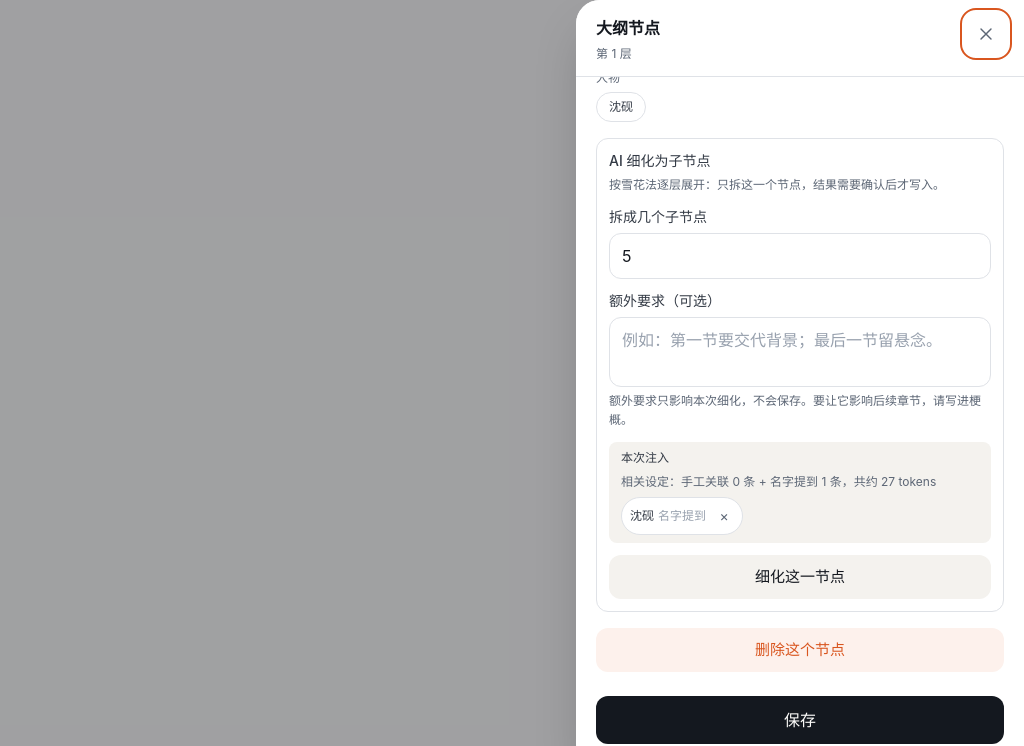
Test case: S4 · 注入清单与临时移除（US-1a，反向 R26） › 移除名字提到的设定：chips 消失，本次请求 prompt 不含该条目完整字段
(page scrolled)
What coordinates should you click on to do the following:
click the button named "移除名字提到的设定：沈砚"
I would click on:
 (724, 516)
Its box is [710,502,738,530].
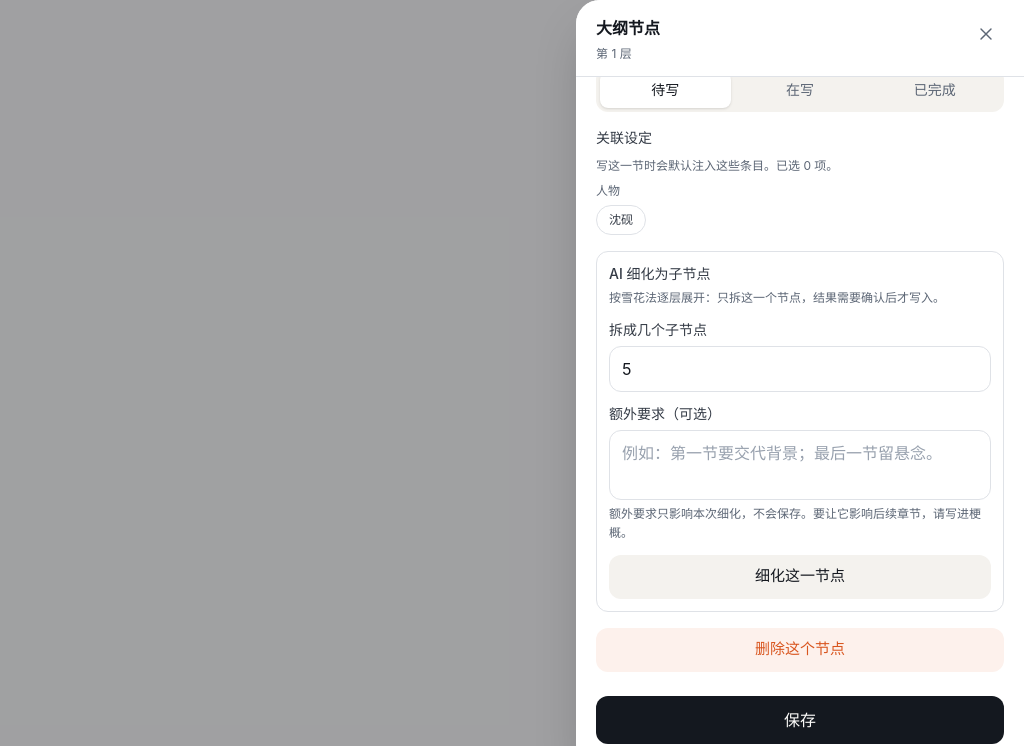
expect the button "移除名字提到的设定：沈砚" is gone: met
expect the text "本次注入" is gone: met
What coordinates should you click on to do the following:
click the button "细化这一节点"
I would click on:
 (800, 576)
Its box is [609,554,991,598].
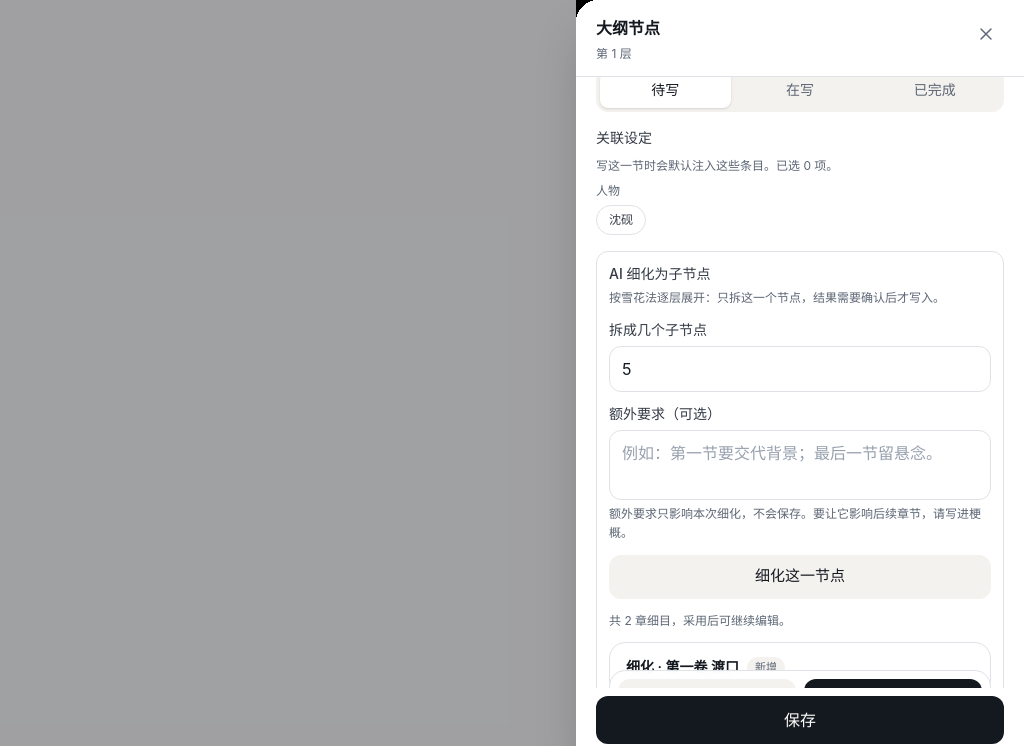
expect the button "采用这份细目" is shown: met, box [804,679,982,727]
